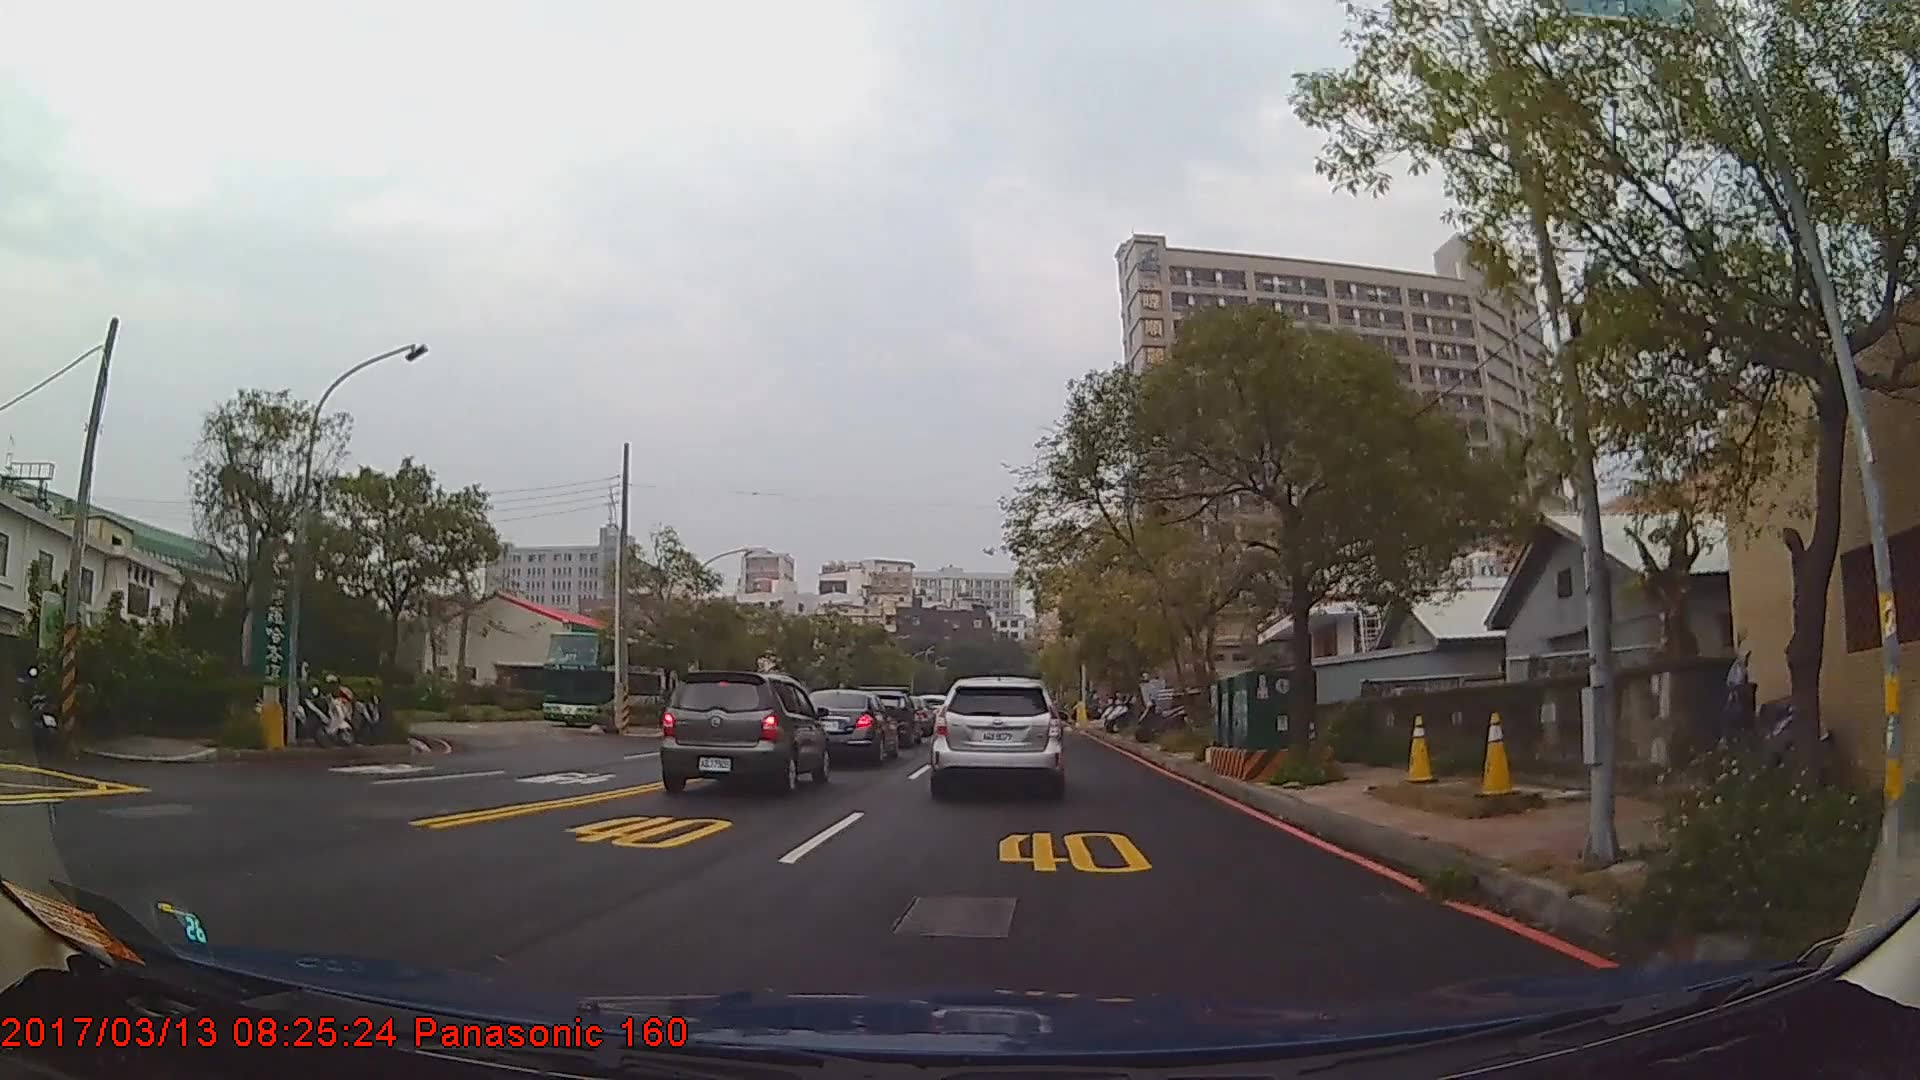vehicle: (655, 670, 825, 796), (928, 673, 1064, 793), (538, 632, 692, 735), (793, 688, 898, 767)
